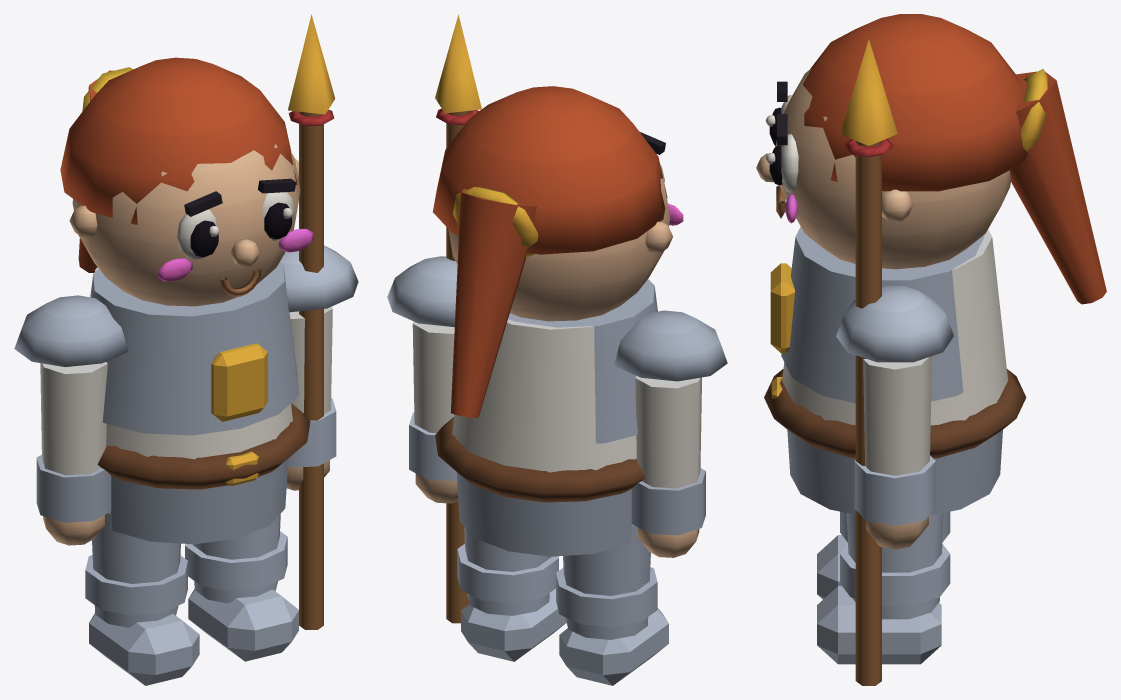
Rendered from hero_rowena.glb.
The picture shows the model from 3 angles, left to right: view 1: azimuth 30°, elevation 25°; view 2: azimuth 150°, elevation 25°; view 3: azimuth 270°, elevation 25°; orthographic projection. The views are drawn at different scales.
Parts seen in each view (by area): view 1: body_t0_palette, armr_t0_palette, arml_t0_palette, legl_t0_palette, legr_t0_palette; view 2: body_t0_palette, arml_t0_palette, armr_t0_palette, legl_t0_palette, legr_t0_palette; view 3: body_t0_palette, armr_t0_palette, legr_t0_palette, legl_t0_palette.
Boxes of the visible parts, left/top/right/bottom form: body_t0_palette: left=60, top=57, right=313, bottom=544; armr_t0_palette: left=280, top=14, right=358, bottom=629; arml_t0_palette: left=14, top=295, right=128, bottom=545; legl_t0_palette: left=85, top=512, right=199, bottom=685; legr_t0_palette: left=185, top=514, right=298, bottom=661; body_t0_palette: left=433, top=86, right=683, bottom=556; arml_t0_palette: left=614, top=310, right=727, bottom=557; armr_t0_palette: left=387, top=14, right=481, bottom=623; legl_t0_palette: left=556, top=525, right=668, bottom=685; legr_t0_palette: left=457, top=526, right=566, bottom=661; body_t0_palette: left=756, top=14, right=1106, bottom=515; armr_t0_palette: left=836, top=39, right=953, bottom=685; legr_t0_palette: left=817, top=513, right=950, bottom=664; legl_t0_palette: left=817, top=511, right=950, bottom=599.
Bounding box in the file's own units: 0.3022 × 0.545 × 0.2673.
